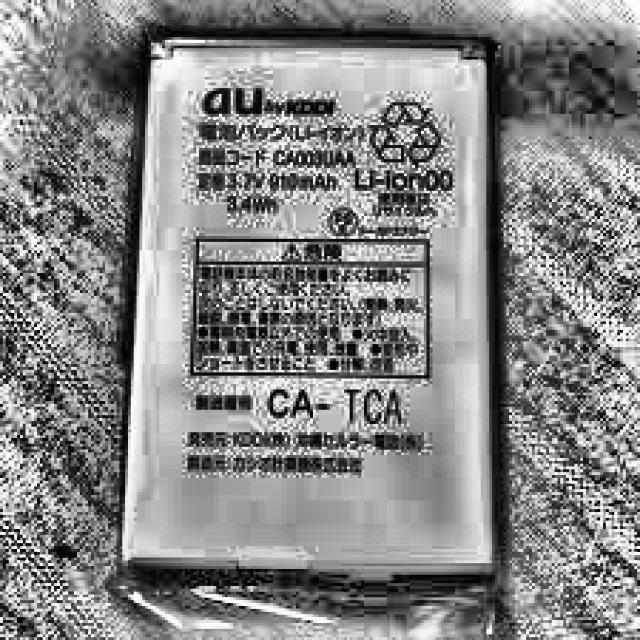Battery: (131, 51, 489, 566)
